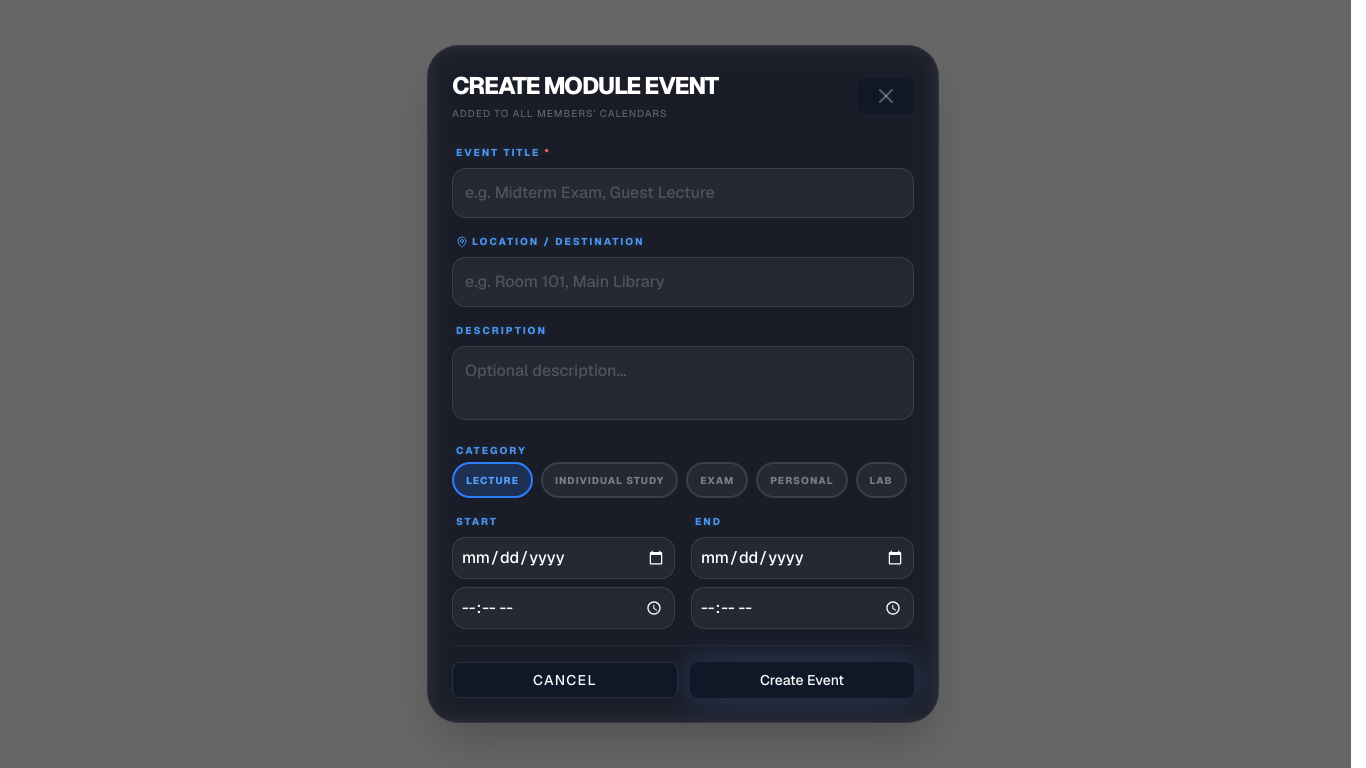
ModuleEventModal — create mode › shows validation error when end is before start
# Fill out required title
Type "Test Event" into the field with placeholder "e.g. Midterm Exam, Guest Lecture" at (683, 193), box [452, 168, 914, 218]
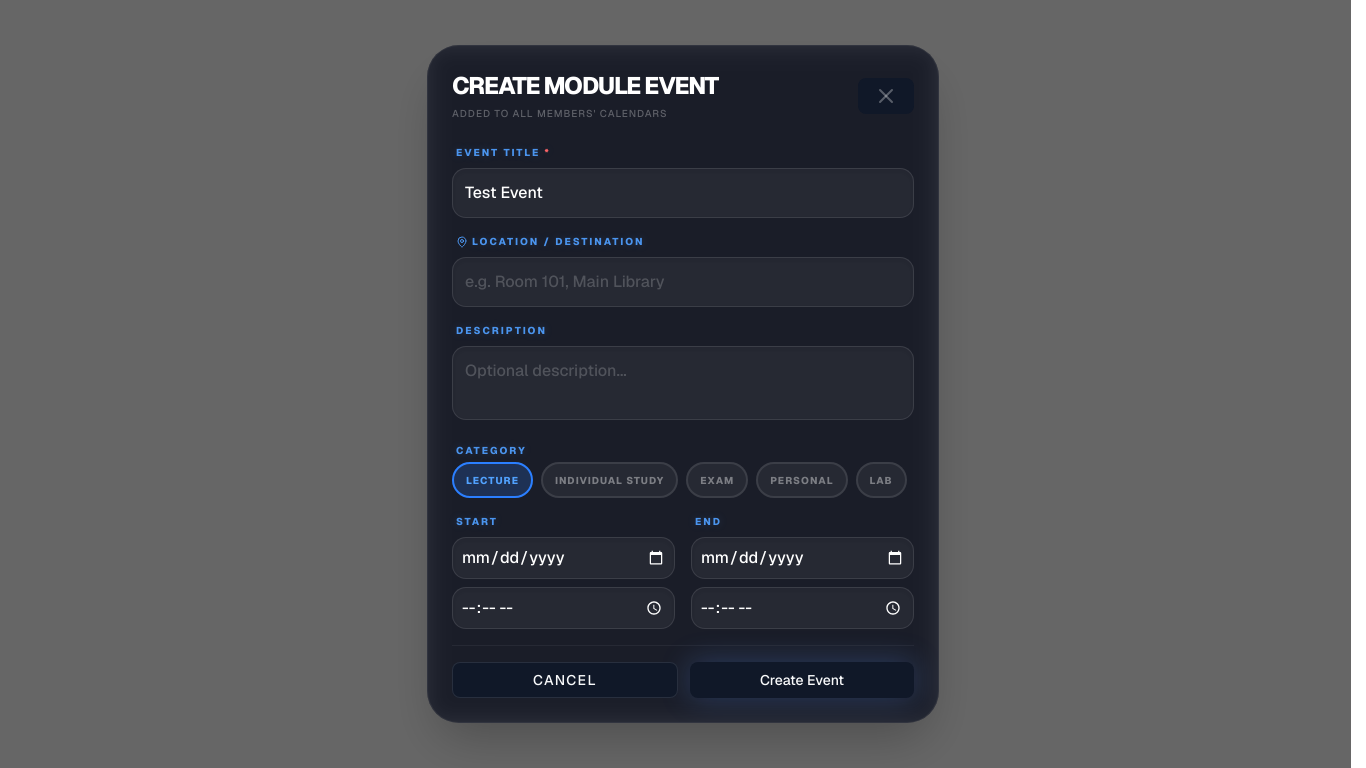
# Set matching dates
Type "2026-03-15" into the date field below "Start" at (564, 558), box [452, 537, 675, 579]
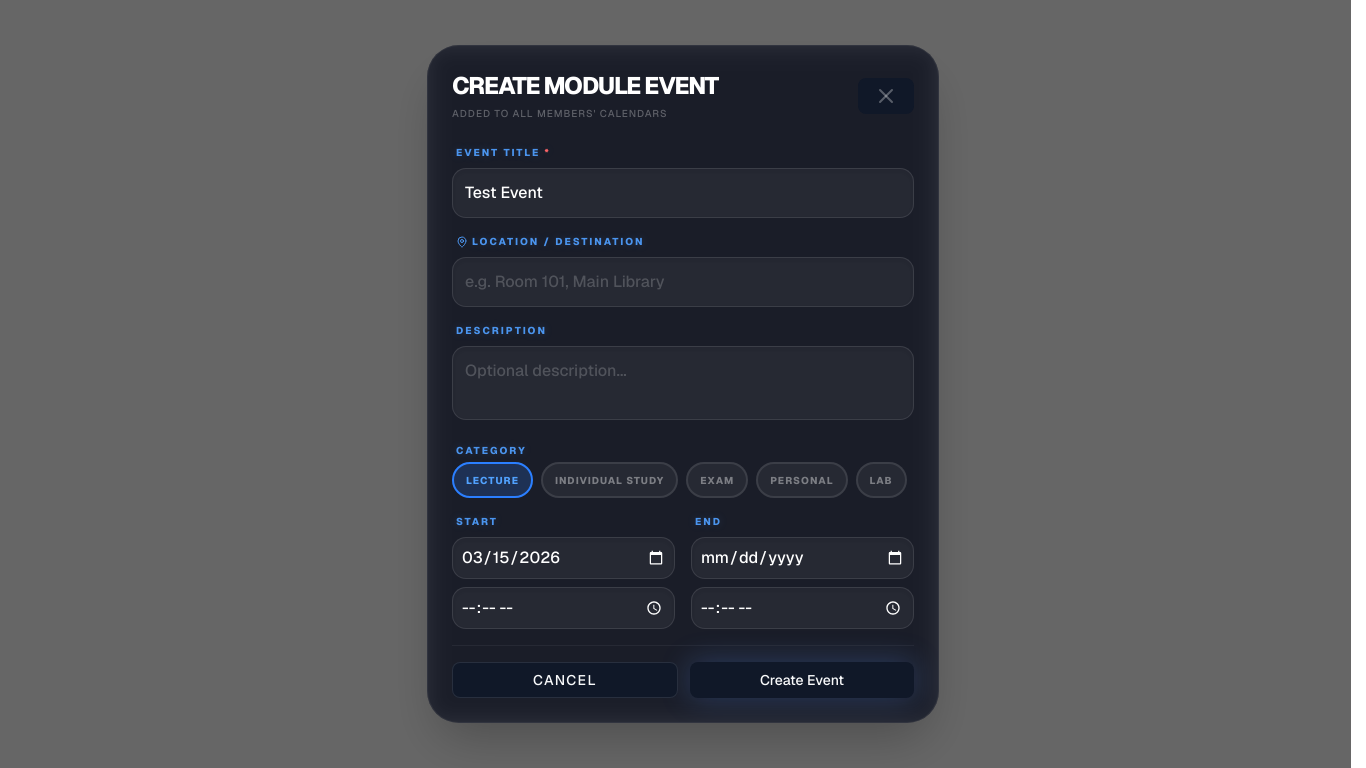
Type "2026-03-15" into the 2nd date field at (802, 558), box [691, 537, 914, 579]
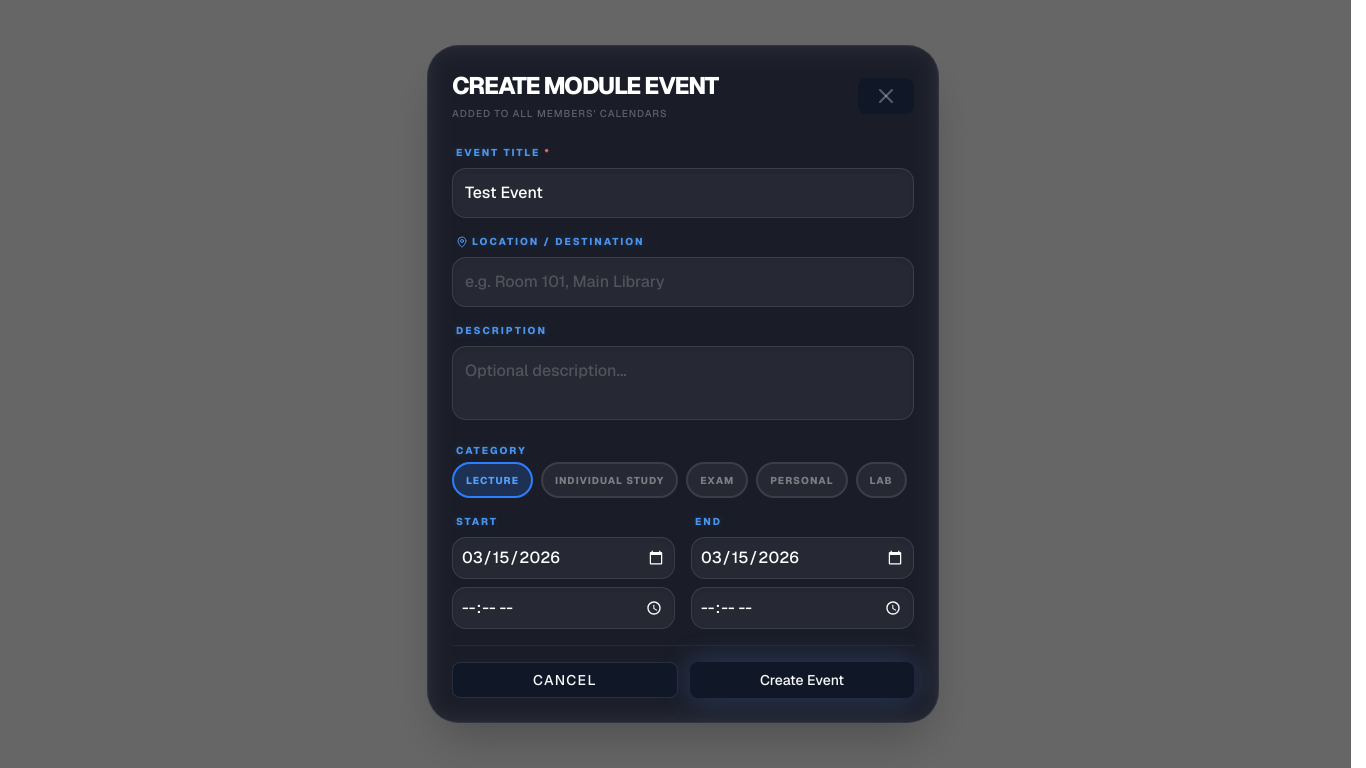
# Set End Time (09:00) BEFORE Start Time (10:00)
Type "10:00" into the time field below "Start" at (564, 608), box [452, 587, 675, 629]
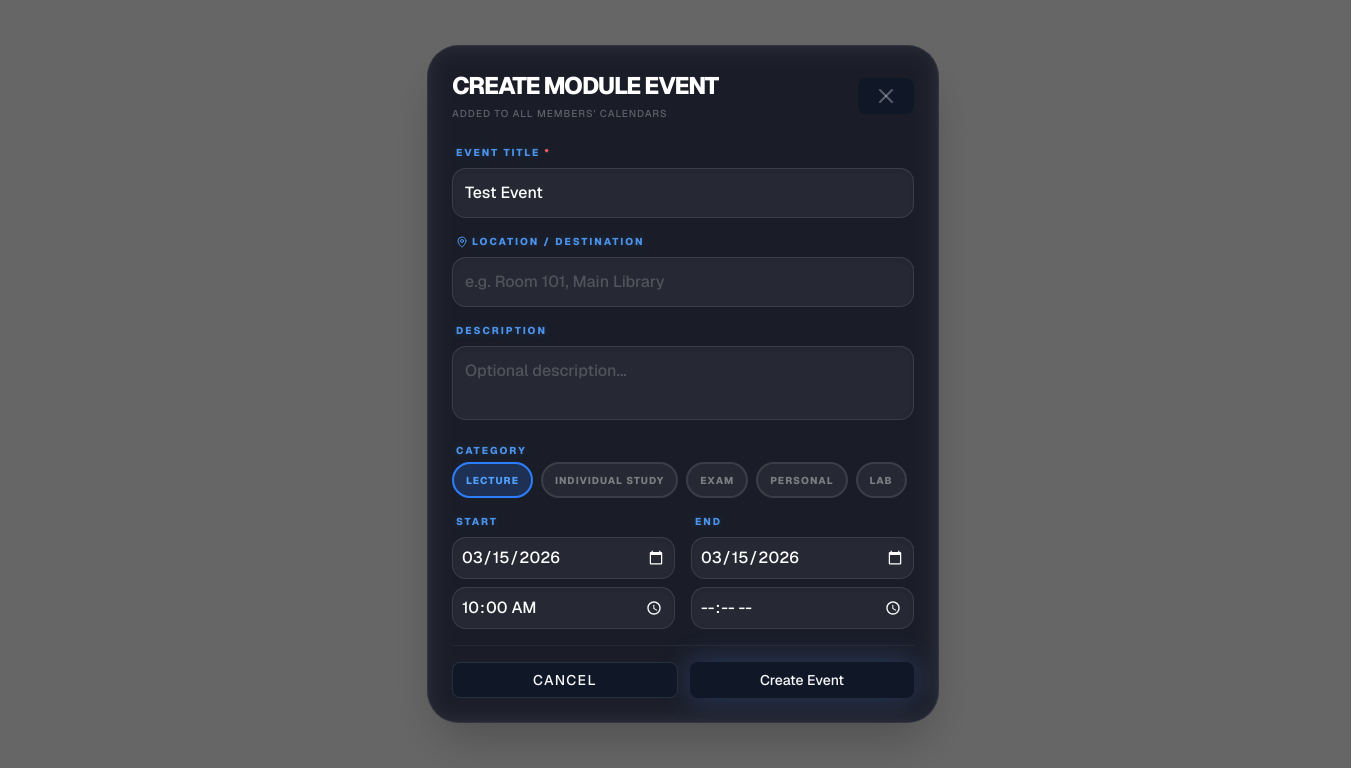
Type "09:00" into the 2nd time field at (802, 608), box [691, 587, 914, 629]
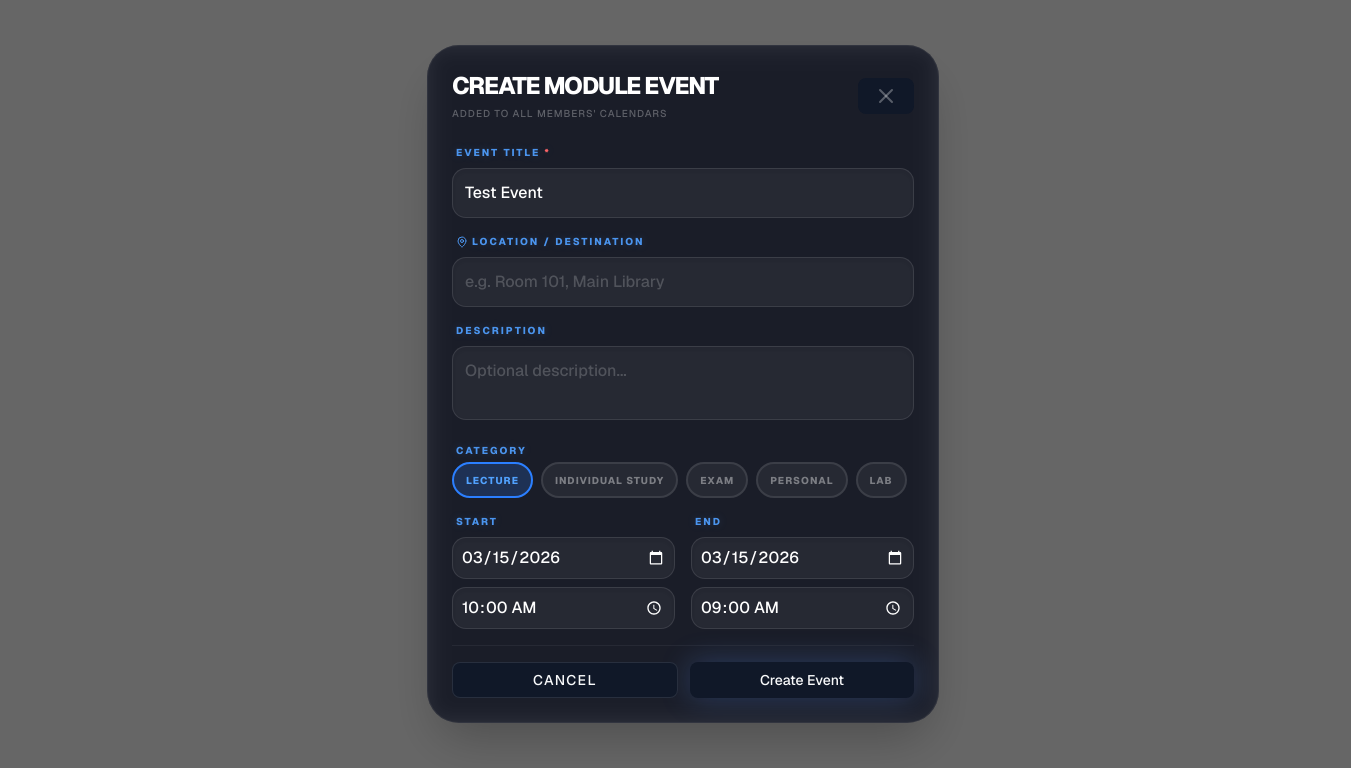
Click the button "Create Event" at (802, 680), box [690, 662, 914, 698]
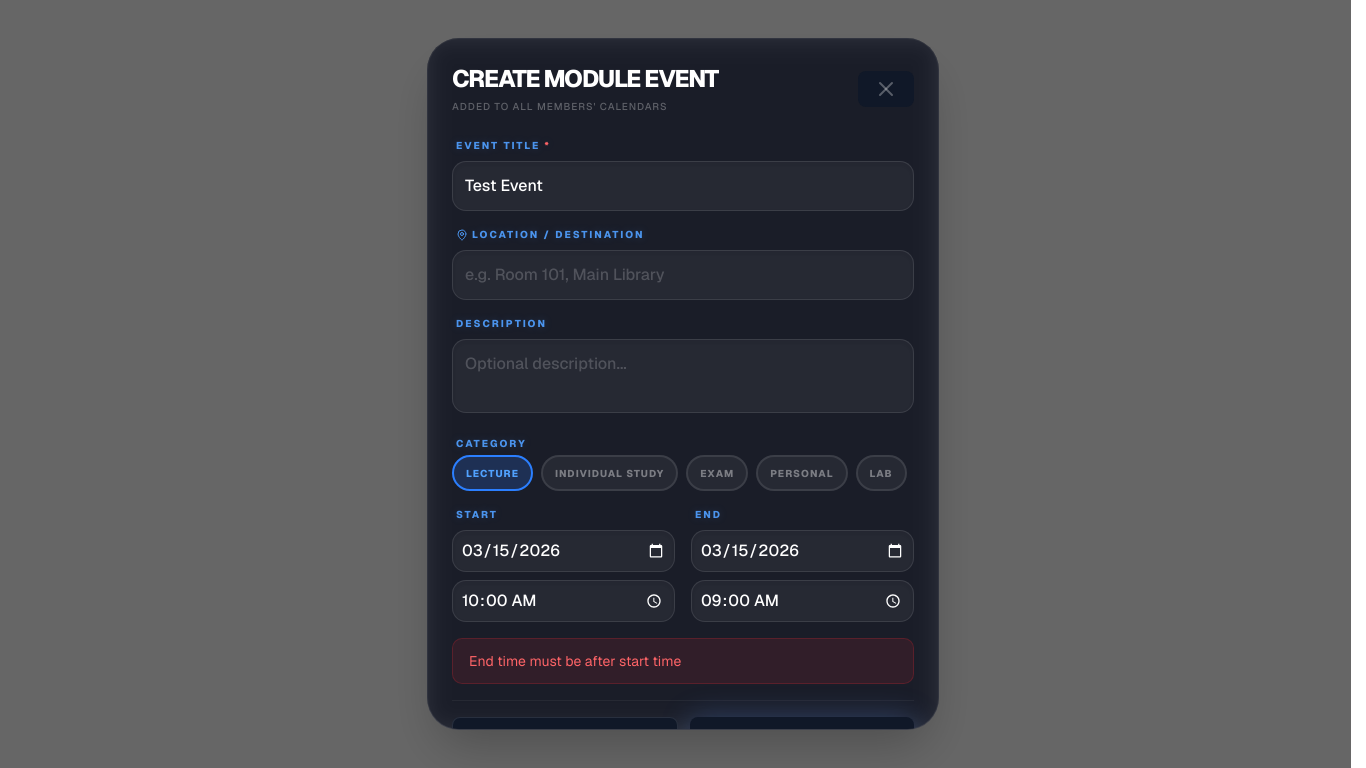
Expected: the text "End time must be after start time" is shown, [452, 638, 914, 684]
